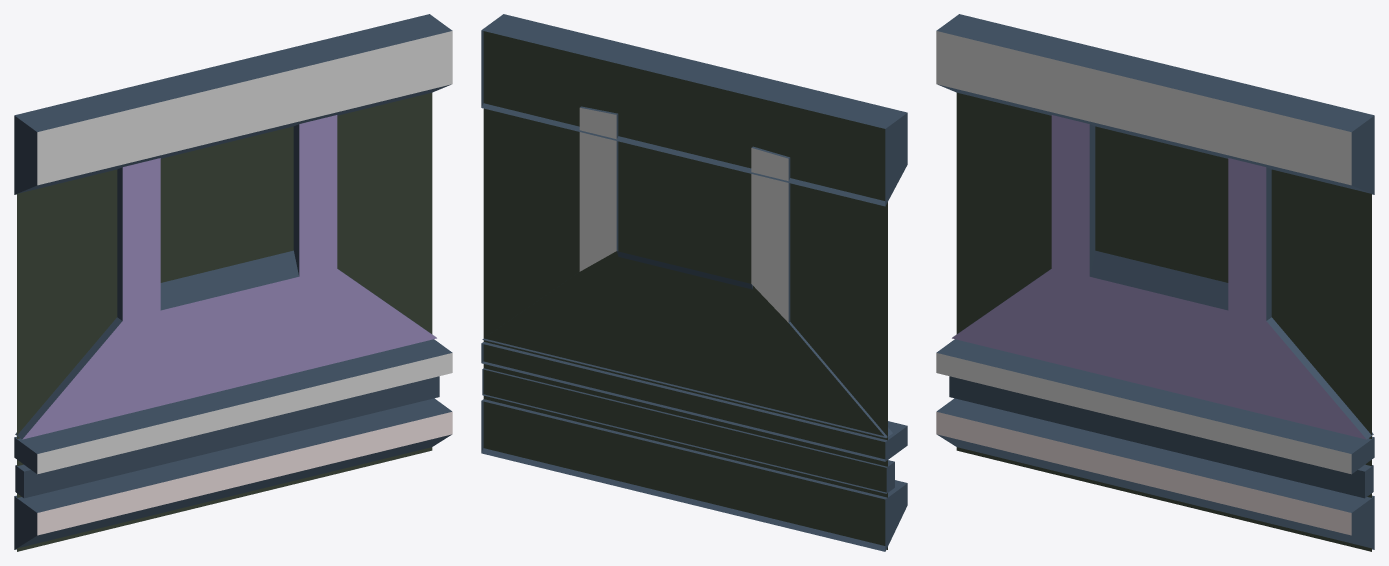
File: Environment_Wall_3.fbx
3 views of the same model, side by side, from view 1: azimuth 30°, elevation 25°; view 2: azimuth 150°, elevation 25°; view 3: azimuth 330°, elevation 25° (orthographic). The views are drawn at different scales.
Visible parts, largest first — view 1: Wall_3; view 2: Wall_3; view 3: Wall_3.
Boxes of the visible parts, left/top/right/bottom form: Wall_3: left=14, top=14, right=452, bottom=551; Wall_3: left=481, top=14, right=907, bottom=551; Wall_3: left=936, top=14, right=1374, bottom=551.
Bounding box in the file's own units: 400 × 400 × 38.42.
